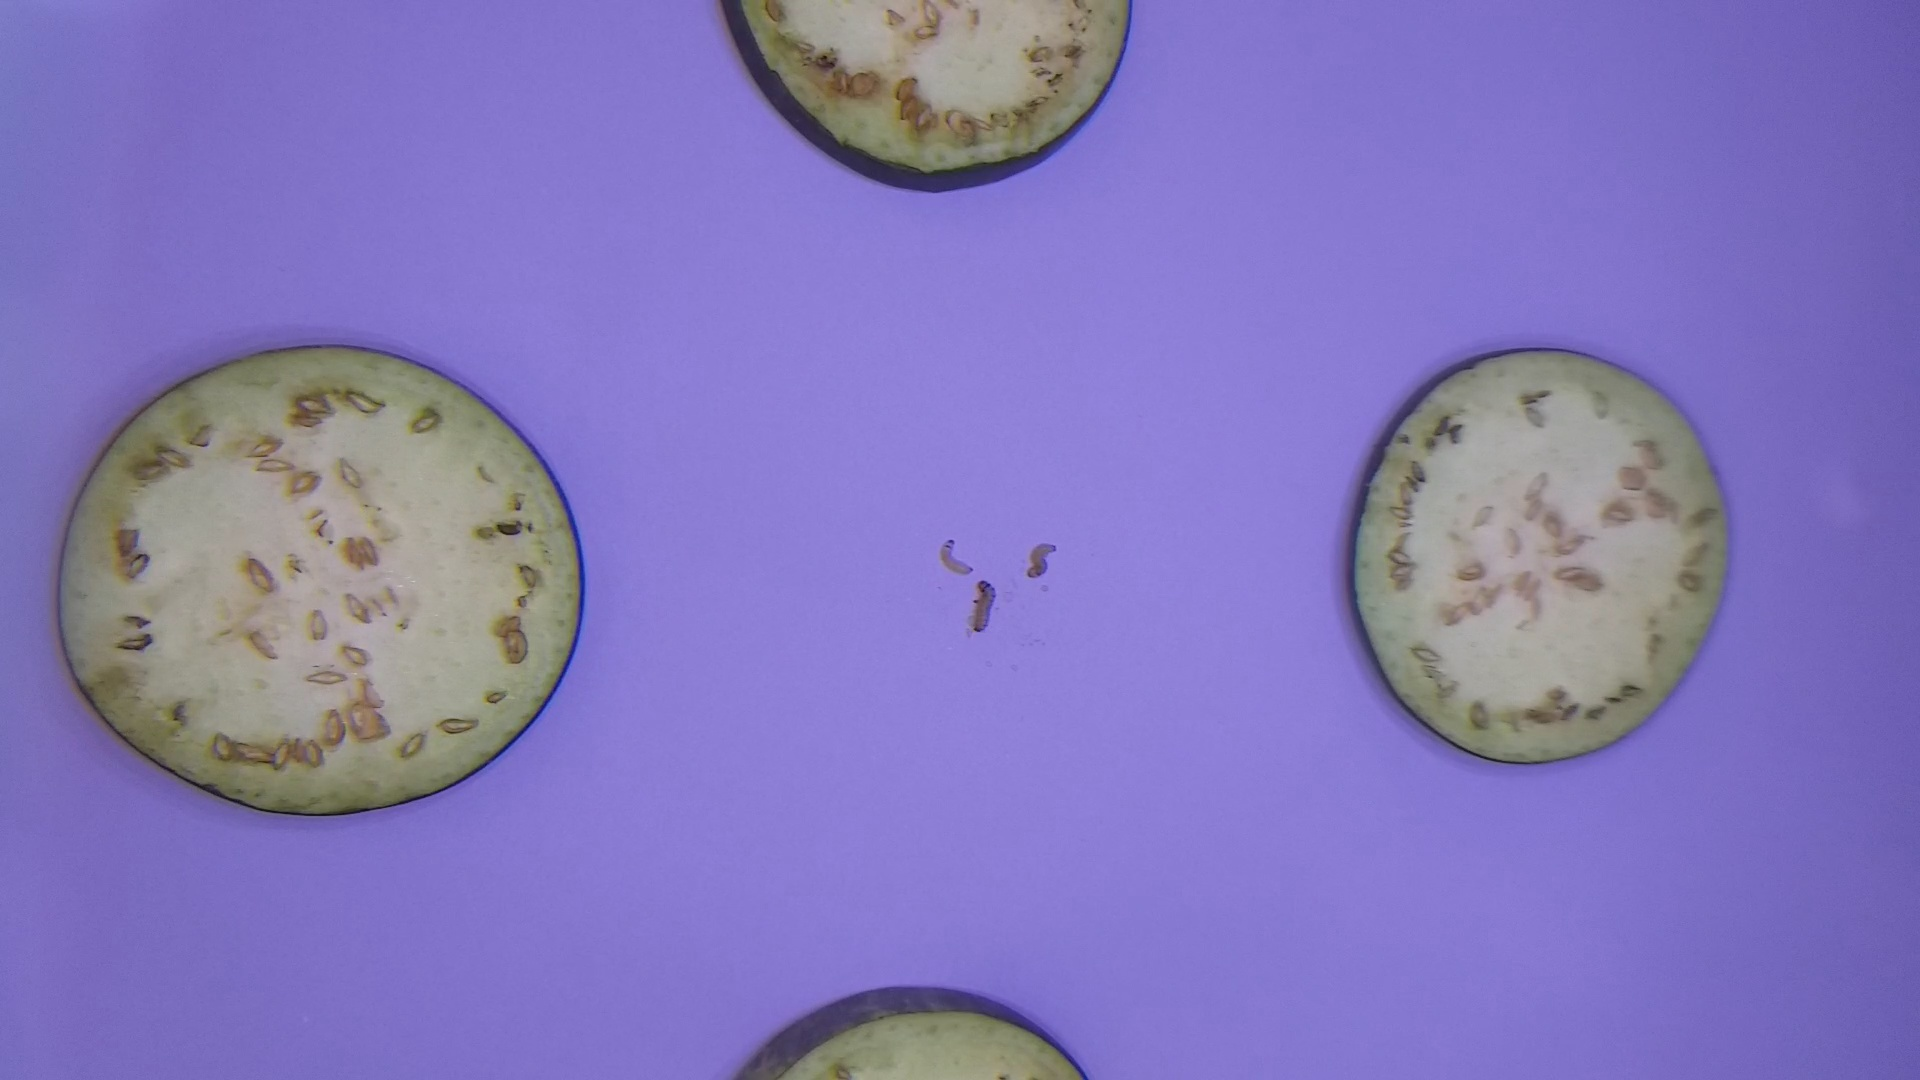efsb: (938, 529, 978, 582), (1022, 531, 1062, 585), (967, 582, 1001, 640)
eggplant: (46, 340, 597, 829), (1332, 340, 1742, 777), (704, 1, 1143, 196), (723, 981, 1102, 1080)
